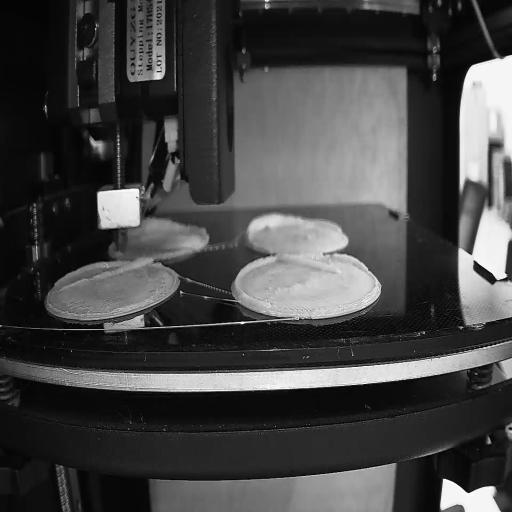over_extrusion: (60, 256, 154, 292), (234, 256, 278, 310), (280, 252, 370, 276), (242, 213, 304, 243), (142, 216, 184, 236), (308, 218, 343, 234)
